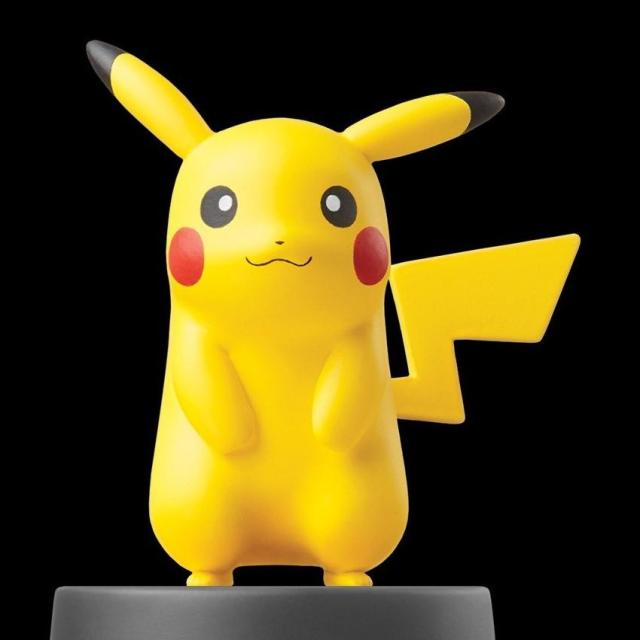pikachu: (89, 41, 580, 588)
